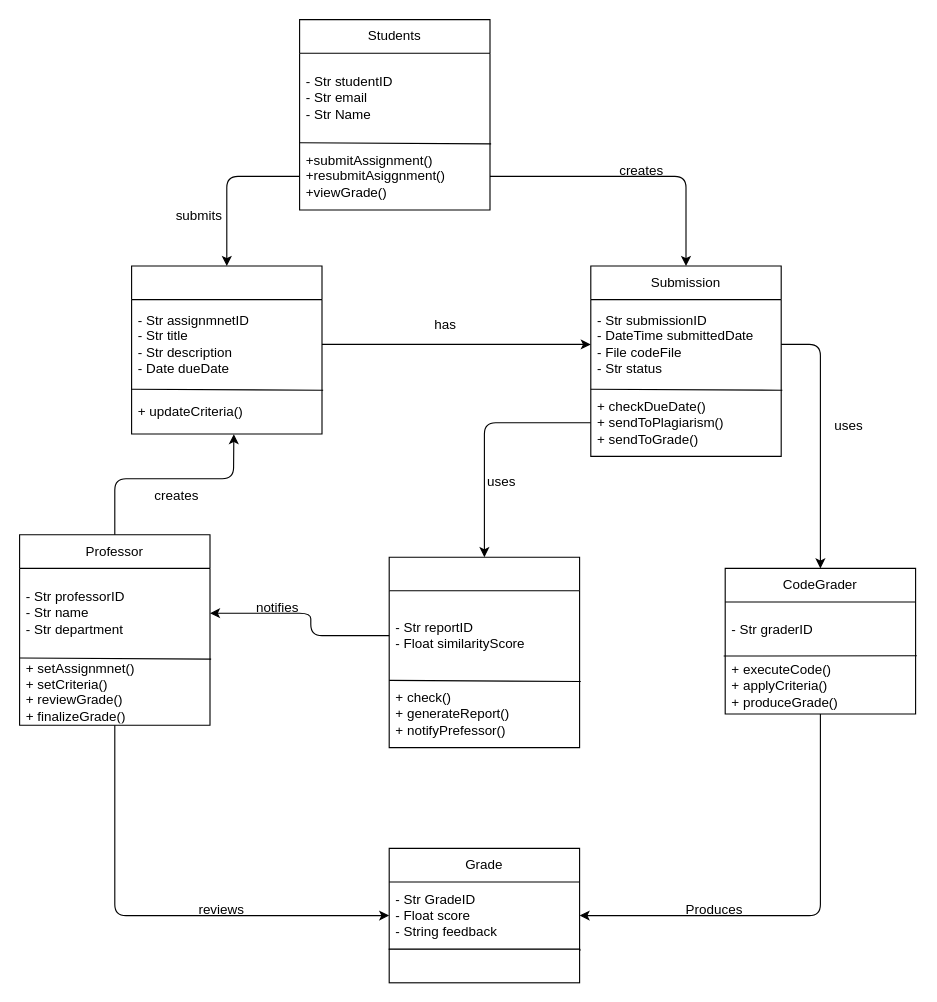
This 937x1002 diagram has some shape labels left out. The shapes that lost their labels are listed below. From the top down, each one's box as (x1, y1, x2, y2) in pixels, then its label:
(130, 265, 322, 434): Assignment
(388, 556, 580, 748): PlagerismChecker
(388, 948, 580, 983): + syncToLMS()
